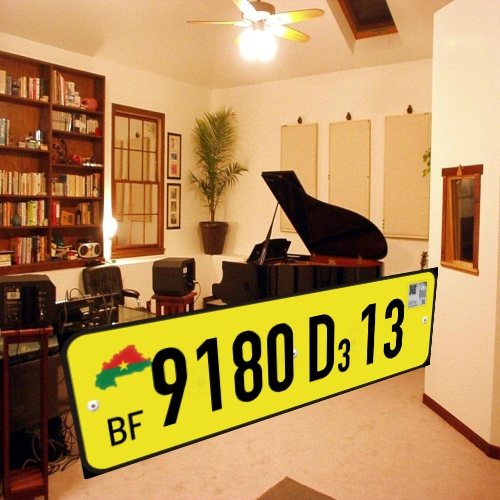plate: (47, 262, 451, 484)
